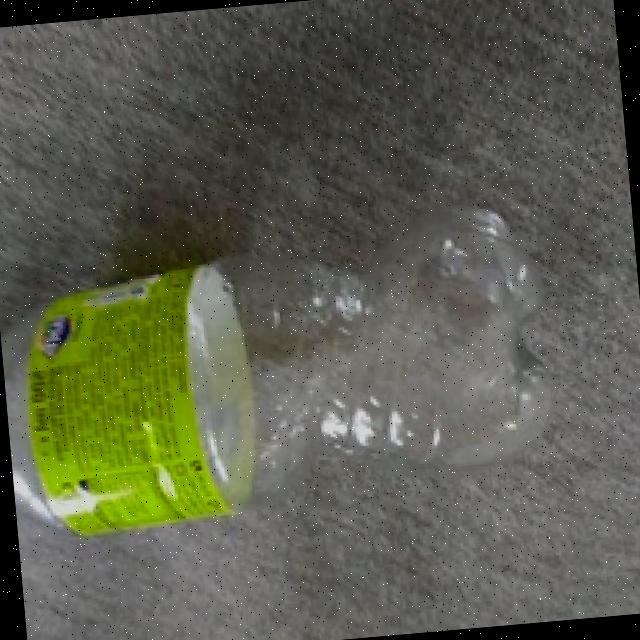bottle: (0, 215, 567, 537)
label: (15, 240, 262, 538)
